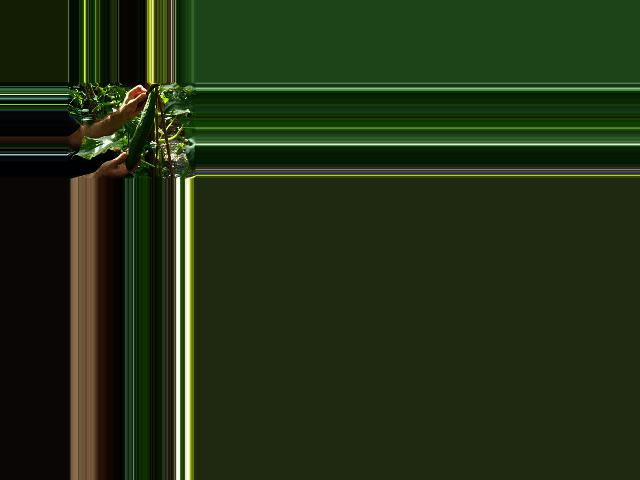cucumber: (125, 92, 155, 170)
